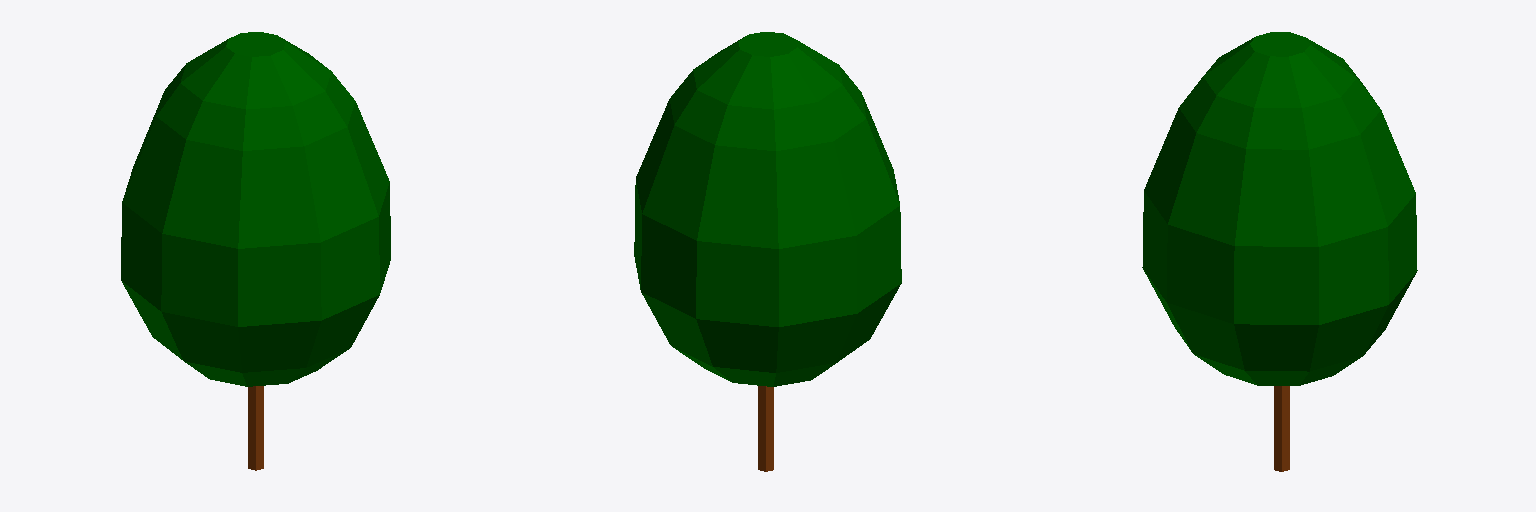
File: Tree_z_Icon_5.obj
The picture shows the model from 3 angles: view 1: azimuth 30°, elevation 25°; view 2: azimuth 150°, elevation 25°; view 3: azimuth 270°, elevation 25°; orthographic projection.
Visible parts, largest first — view 1: Mesh3 Model, Mesh2 Group1 Model; view 2: Mesh3 Model, Mesh2 Group1 Model; view 3: Mesh3 Model, Mesh2 Group1 Model.
Part boxes in pixels (x1,y1,x2,y2): Mesh3 Model: (121,32,390,386); Mesh2 Group1 Model: (248,386,263,470); Mesh3 Model: (634,32,901,386); Mesh2 Group1 Model: (758,386,773,471); Mesh3 Model: (1142,32,1417,385); Mesh2 Group1 Model: (1274,386,1289,471).
Bounding box in the file's own units: 140 × 247 × 146.